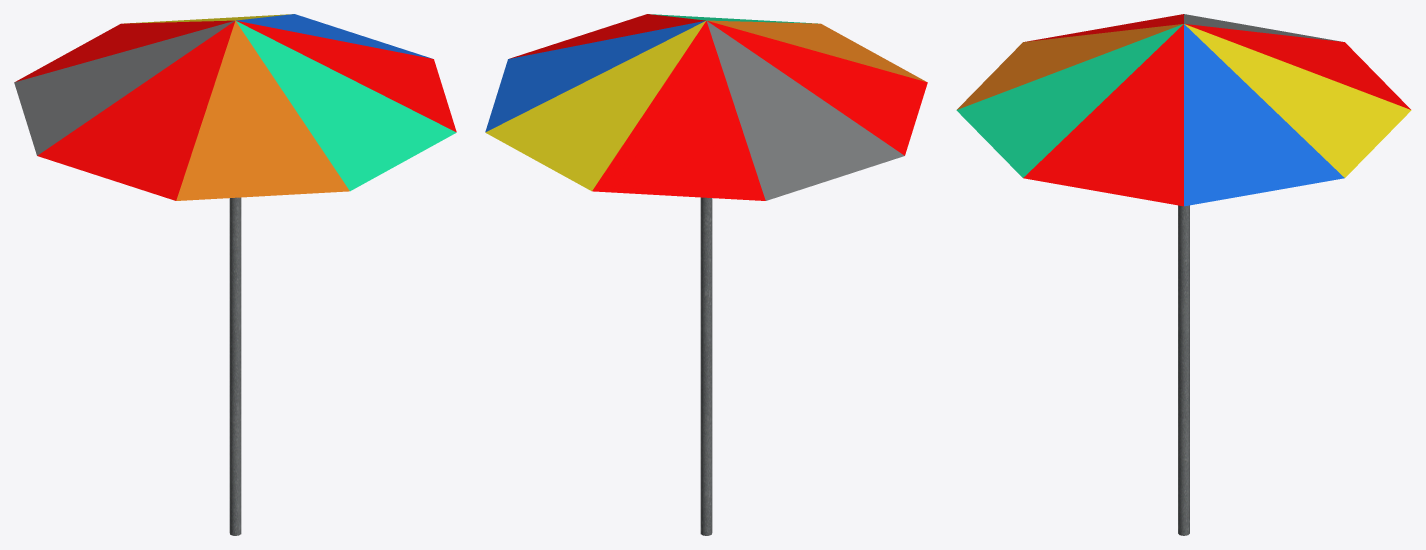
Rendered from Umbrella.fbx.
3 views of the same model, side by side, from view 1: azimuth 30°, elevation 25°; view 2: azimuth 150°, elevation 25°; view 3: azimuth 270°, elevation 25° (orthographic).
Visible parts, largest first — view 1: Umbrela; view 2: Umbrela; view 3: Umbrela.
Part boxes in pixels (x1,y1,x2,y2): Umbrela: (14,14,456,535); Umbrela: (485,14,927,535); Umbrela: (956,14,1411,535).
Bounding box in the file's own units: 217 × 268 × 217.
